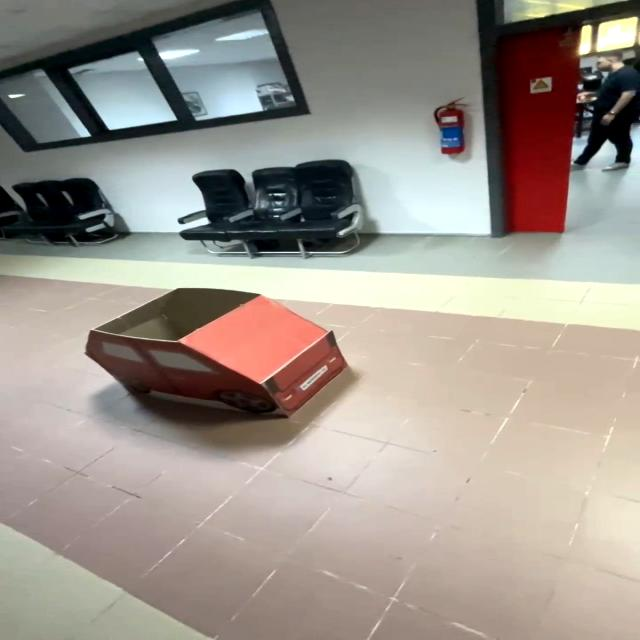red_car: (55, 274, 429, 458)
